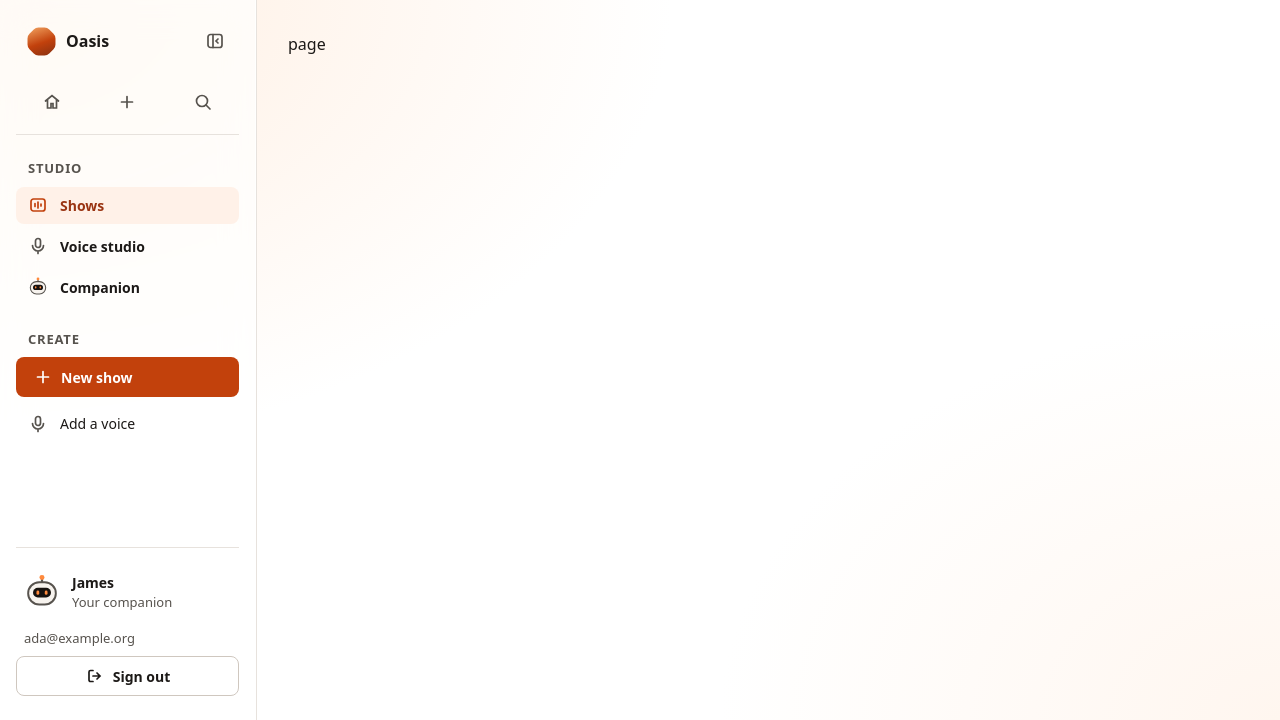
sidebar › collapses to an icon rail that keeps every name, and remembers it
The width and height of the screenshot is (1280, 720).
Step 1. Click the button named "Collapse the sidebar" → x=215, y=41, box top-left (199, 25), bottom-right (231, 57)
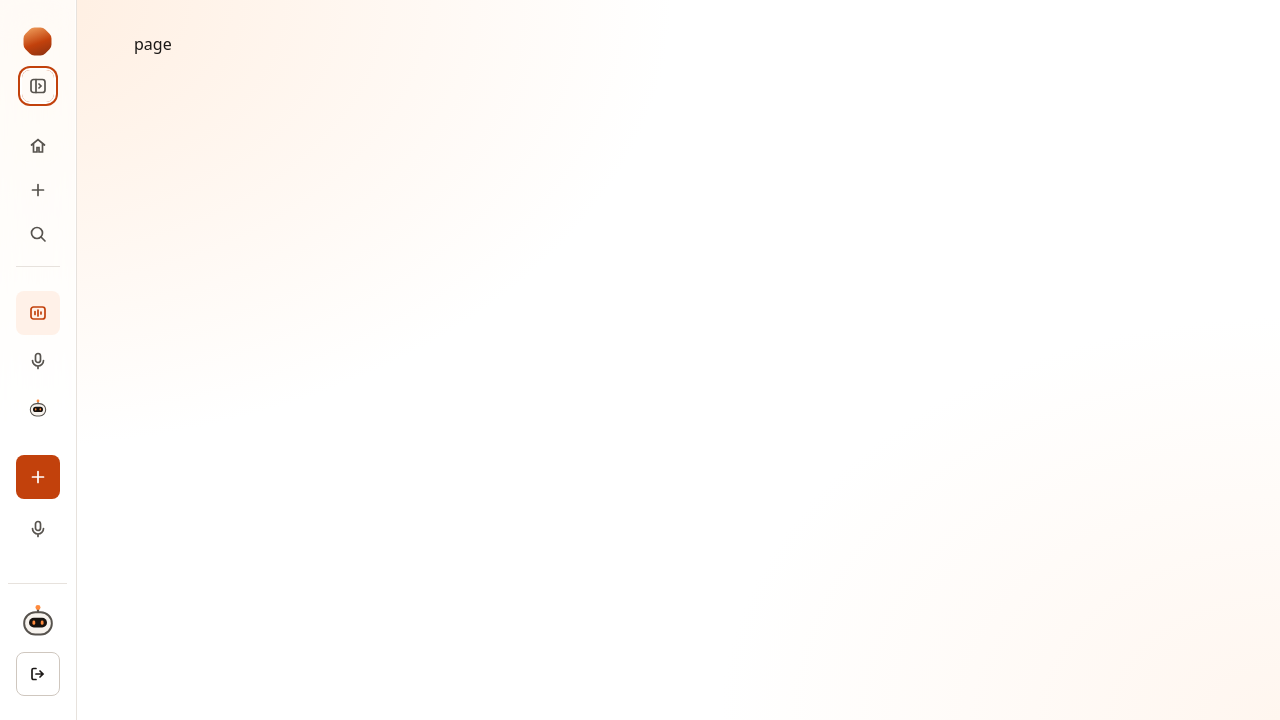
Expected: the button named "Sign out" is shown, top-left (16, 652), bottom-right (60, 696)
Result: the button named "Expand the sidebar" is collapsed
Step 2. Click the button named "Expand the sidebar" → x=38, y=86, box top-left (22, 70), bottom-right (54, 102)
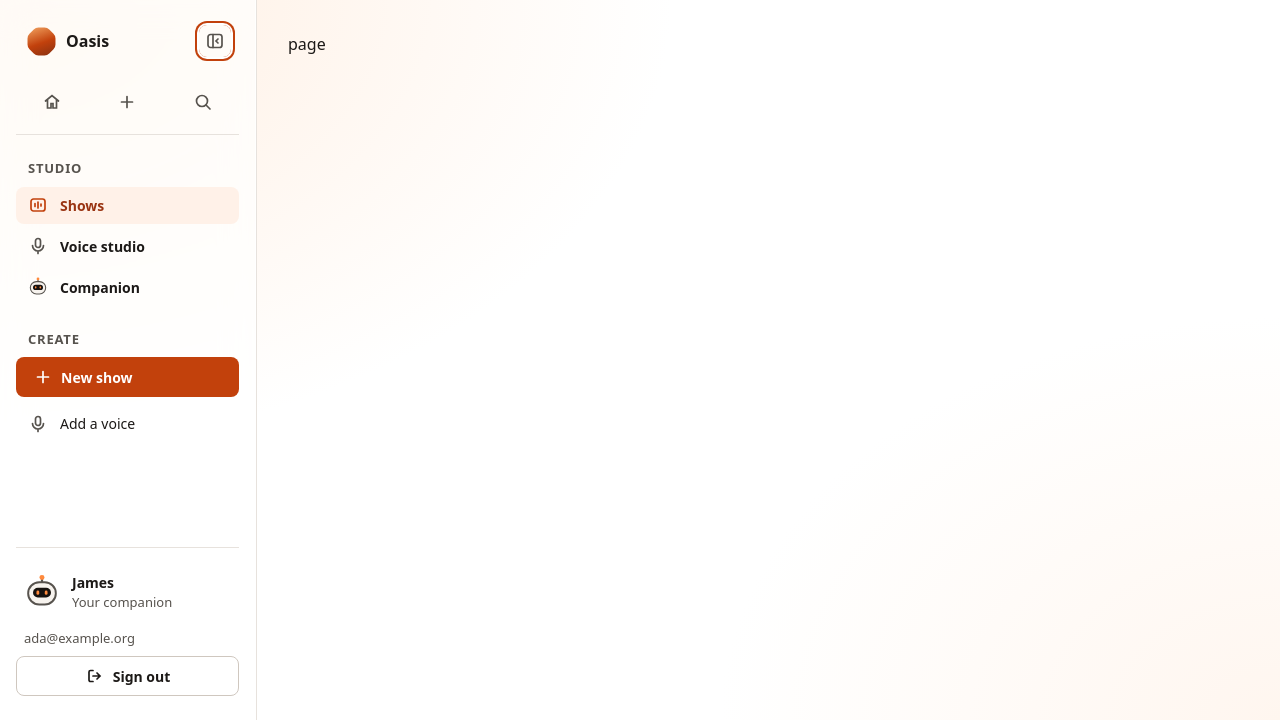
Result: the element with class "app-layout" does not have class "sidebar-collapsed" at top-left (0, 0), bottom-right (326, 719)
